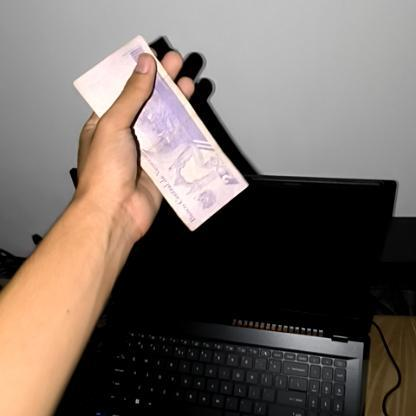ten-back-vef: (73, 33, 250, 233)
